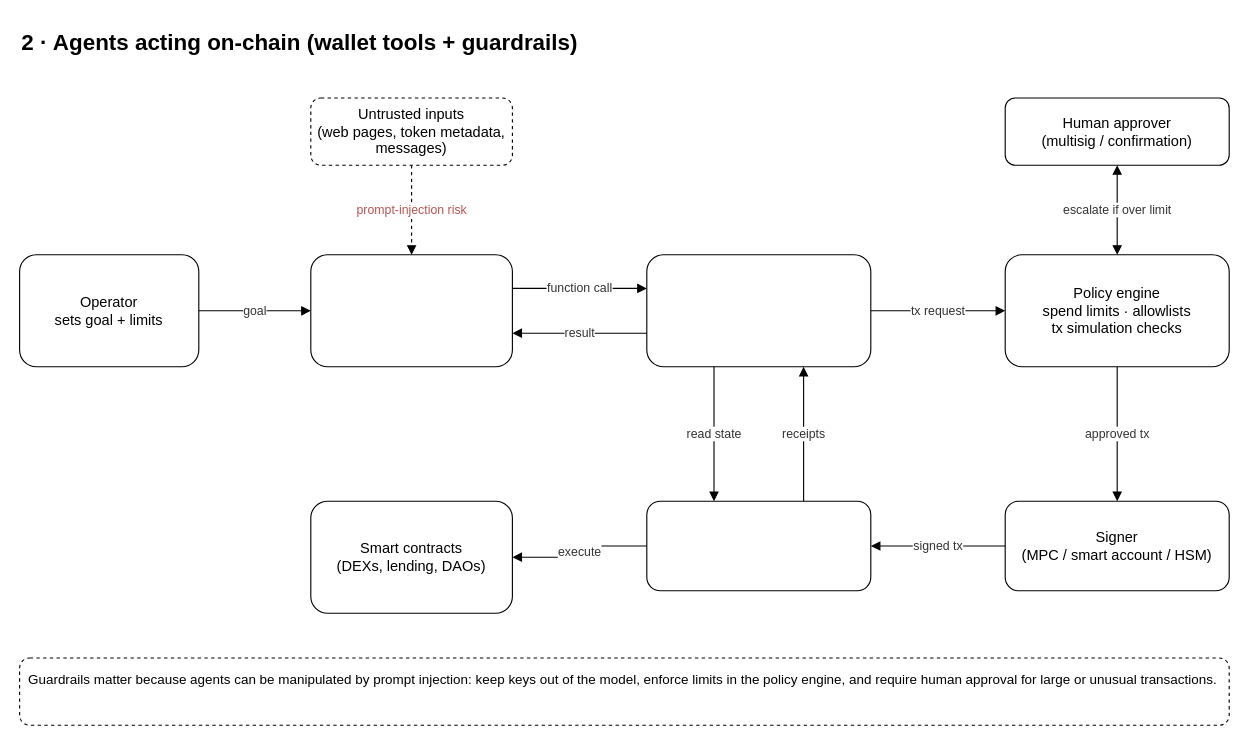
The diagram is 1249 pixels wide and 745 high, and some of its shapes have lost their labels. Each missing label, with the centre of its shape:
"LLM agent" belongs at [411,310].
"RPC node" belongs at [758,545].
"Tool layer (MCP server / SDK) read_state · swap · sign_tx" belongs at [758,310].
